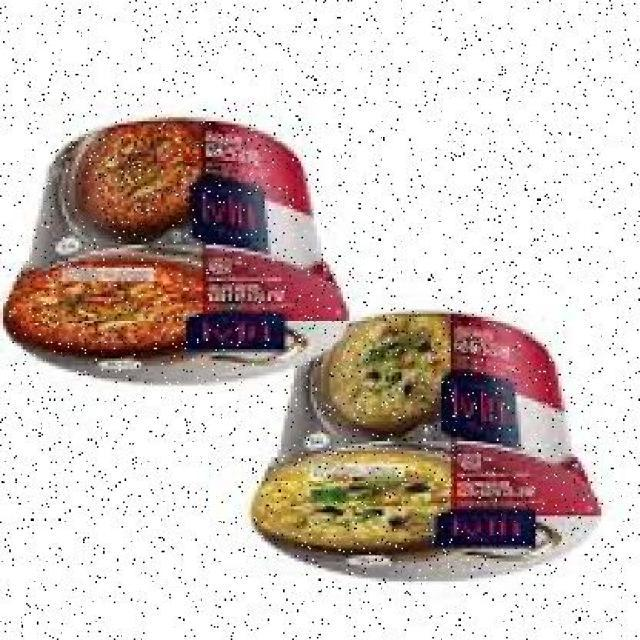Miscellaneous: (0, 104, 349, 396), (261, 318, 610, 592)
